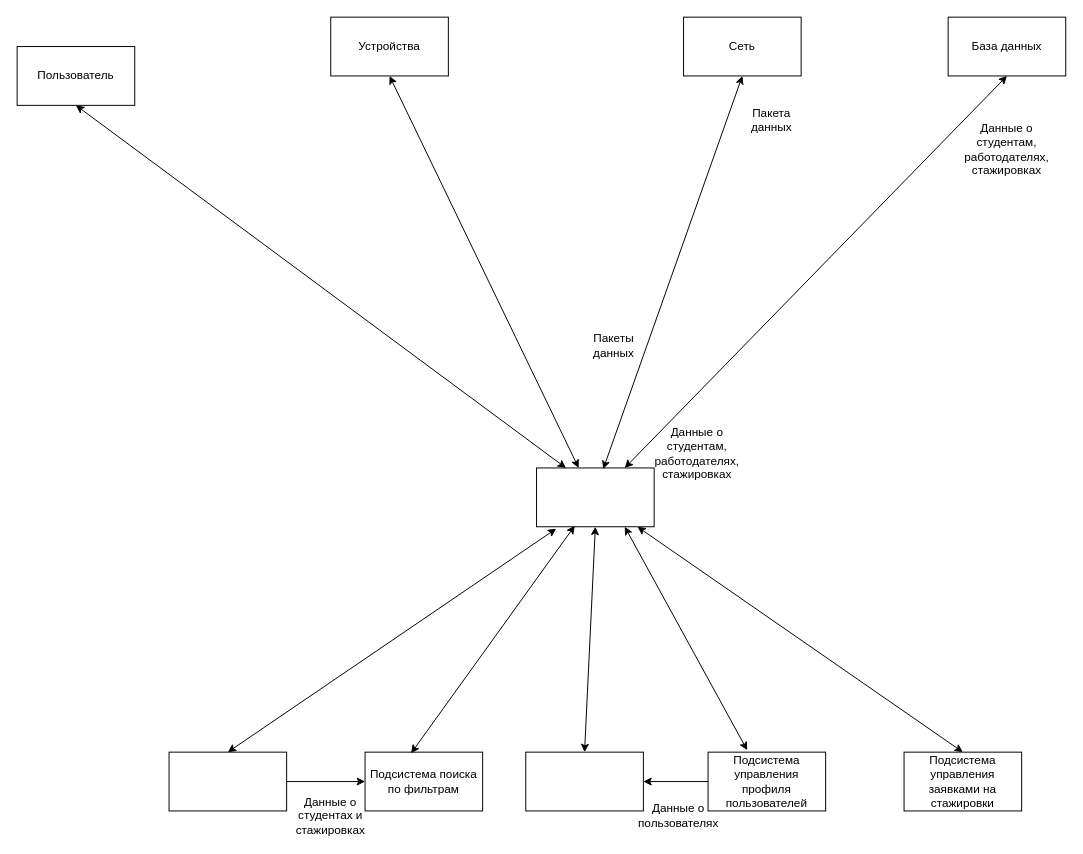
The diagram is 1083 pixels wide and 854 high, and some of its shapes have lost their labels. Here are the shapes that lost their labels. From the top down, the centre of each, then its label:
At point (595, 497): "Система".
At point (227, 781): "Подсистема управления стажировками".
At point (584, 781): "Подсистема чата".
